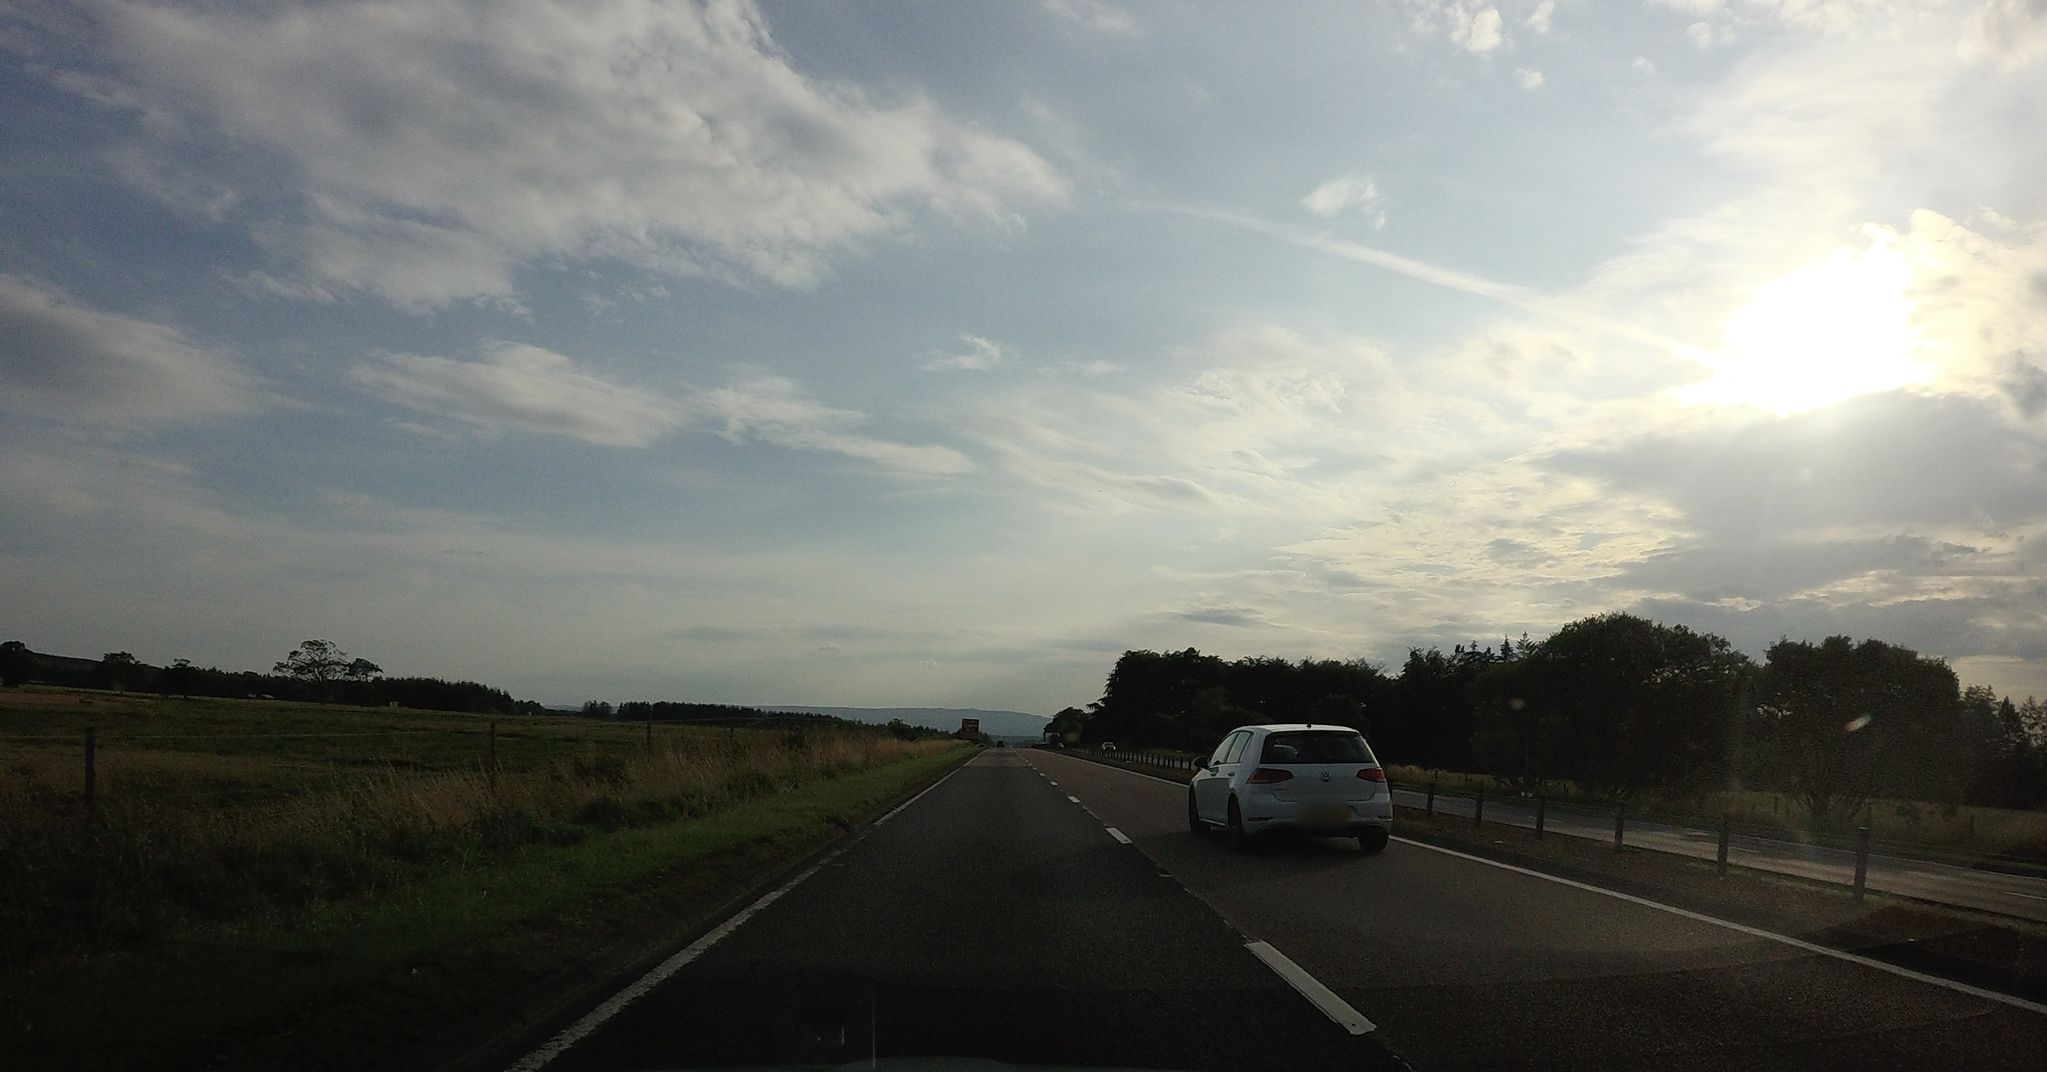car: (1186, 720, 1394, 851)
